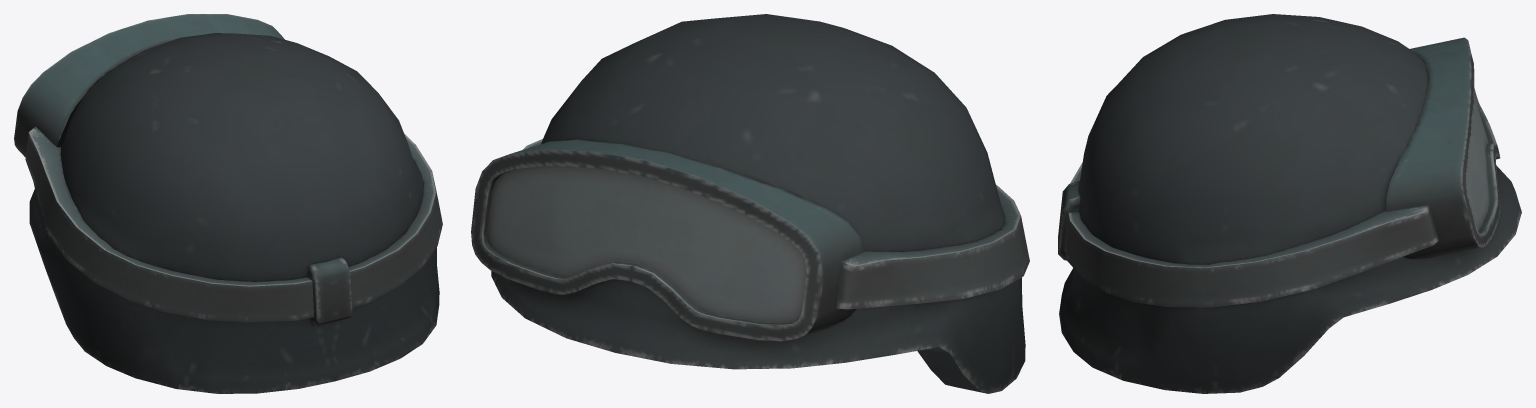
Rendered from IG_Helmat_LV3.fbx.
3 views of the same model, side by side, from view 1: azimuth 30°, elevation 25°; view 2: azimuth 150°, elevation 25°; view 3: azimuth 270°, elevation 25° (orthographic). The views are drawn at different scales.
Parts seen in each view (by area): view 1: Hair_Hat_LV3; view 2: Hair_Hat_LV3; view 3: Hair_Hat_LV3.
Boxes of the visible parts, x1=… form: Hair_Hat_LV3: x1=14, y1=14, x2=442, y2=393; Hair_Hat_LV3: x1=471, y1=14, x2=1029, y2=393; Hair_Hat_LV3: x1=1058, y1=14, x2=1521, y2=393.
Size of the model in its own units: 0.6178 by 0.4137 by 0.6373.
